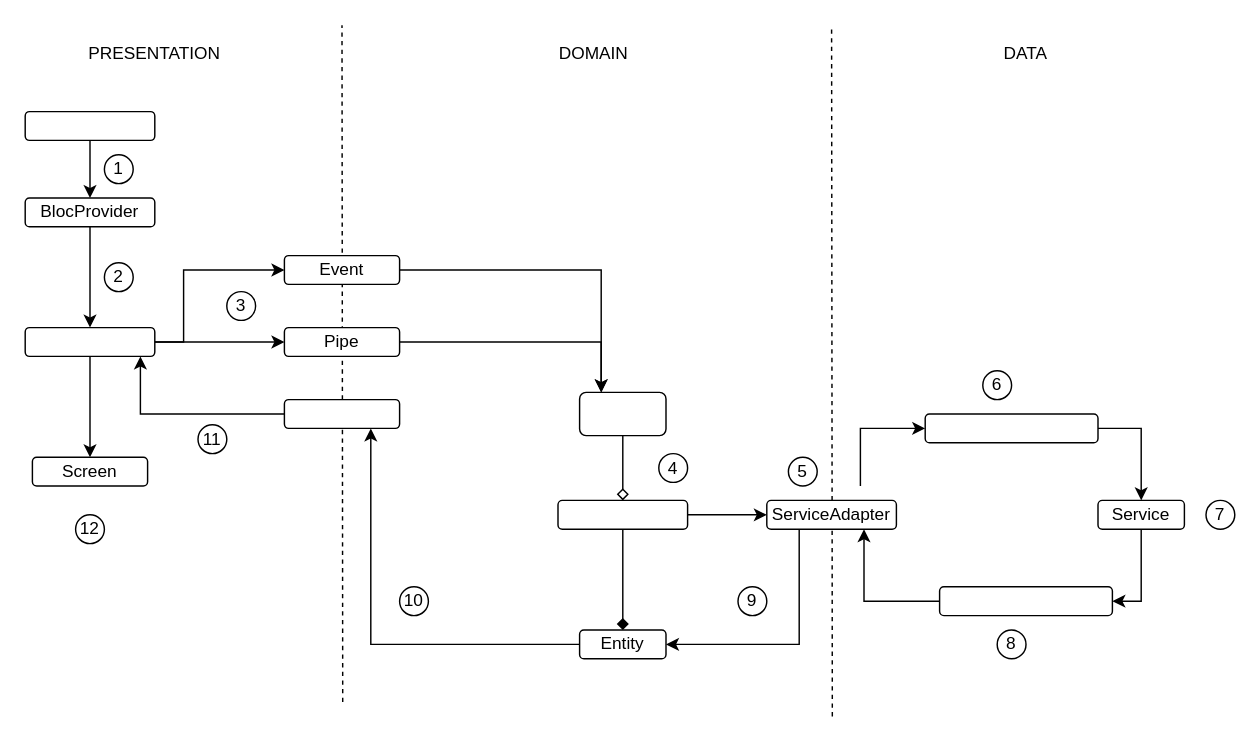
Some shapes in this 1260 by 743 pixel diagram are drawn without their labels. The centre of each missing label's shape, as x and y in pixels:
"Bloc" belongs at point 622,413.
"FeatureWidget" belongs at point 89,125.
"Presenter" belongs at point 89,341.
"RequestModel" belongs at point 1011,428.
"ResponseModel" belongs at point 1025,600.
"Use Case" belongs at point 622,514.
"ViewModel" belongs at point 341,413.
